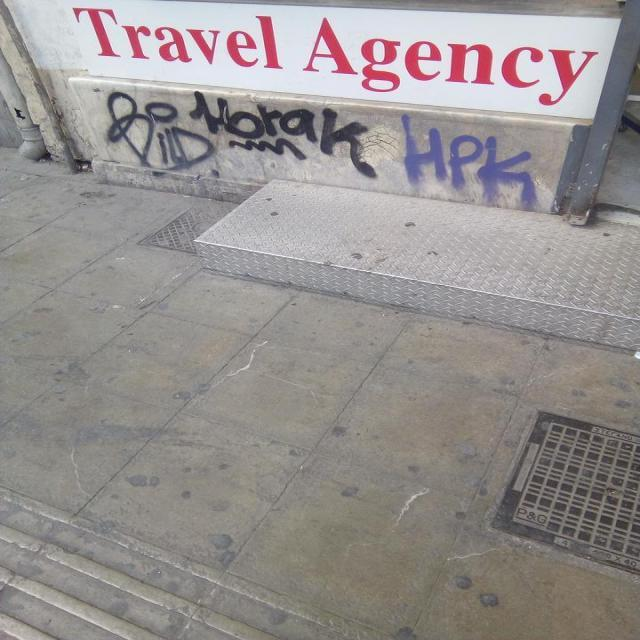nonspitting: (190, 90, 377, 180), (402, 113, 537, 206), (104, 90, 215, 178)
